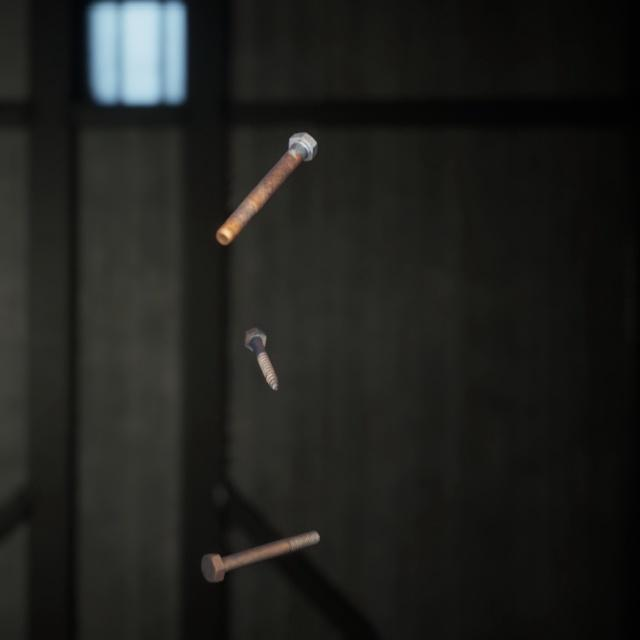bolt: (211, 113, 322, 234), (196, 503, 324, 563), (238, 304, 283, 375)
